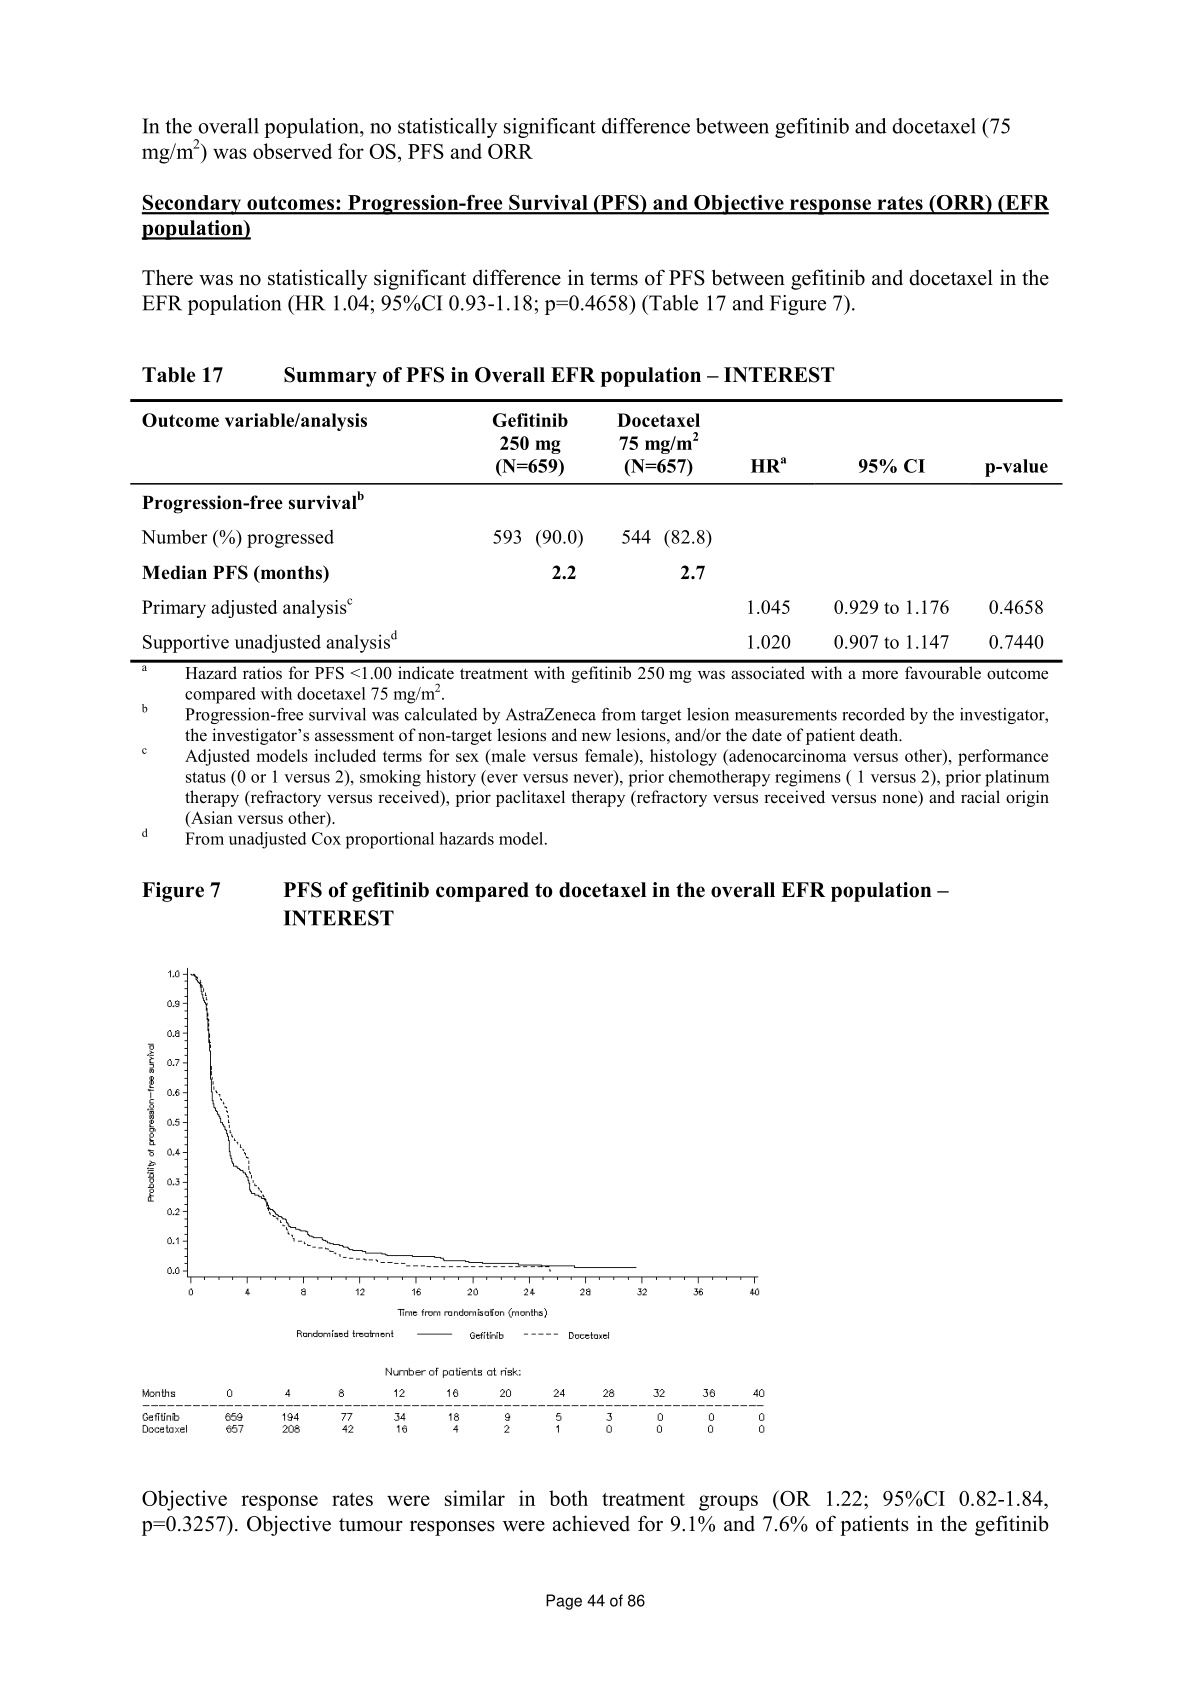partial_lined: (130, 399, 1064, 664), (139, 1383, 769, 1436)
